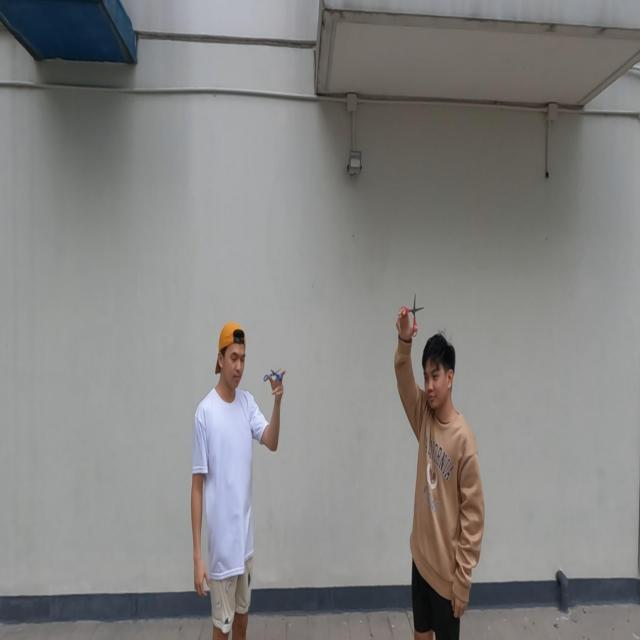scissor: (398, 294, 424, 338), (264, 367, 284, 382)
